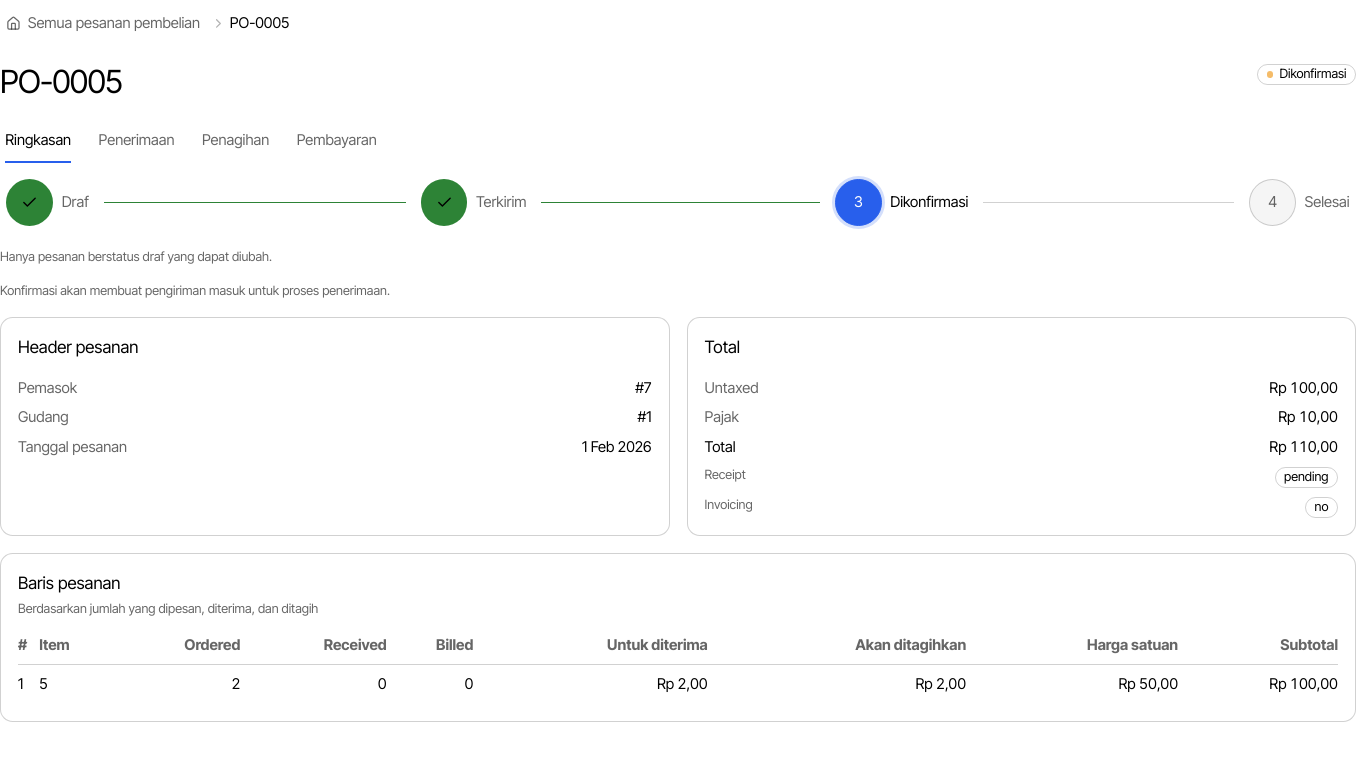
Scenario: PurchaseOrderDetail extra › lists billable lines and opens the supplier-bill dialog
This screenshot has width=1366, height=768.
Click the tab "Penagihan": (236, 141) [201, 117, 270, 164]
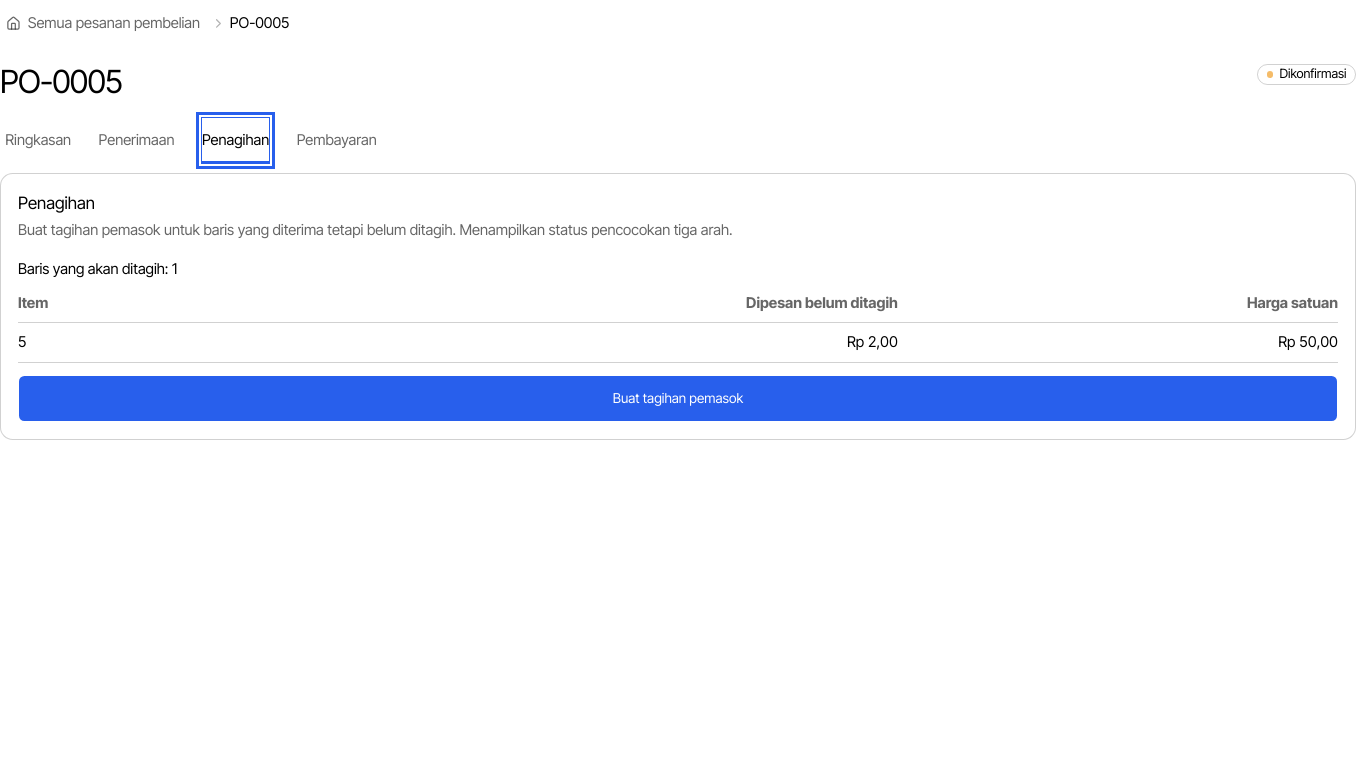
expect the text "Baris yang akan ditagih: 1" is shown: met, box [18, 260, 177, 278]
Click the button "Buat tagihan pemasok": (678, 399) [18, 375, 1338, 422]
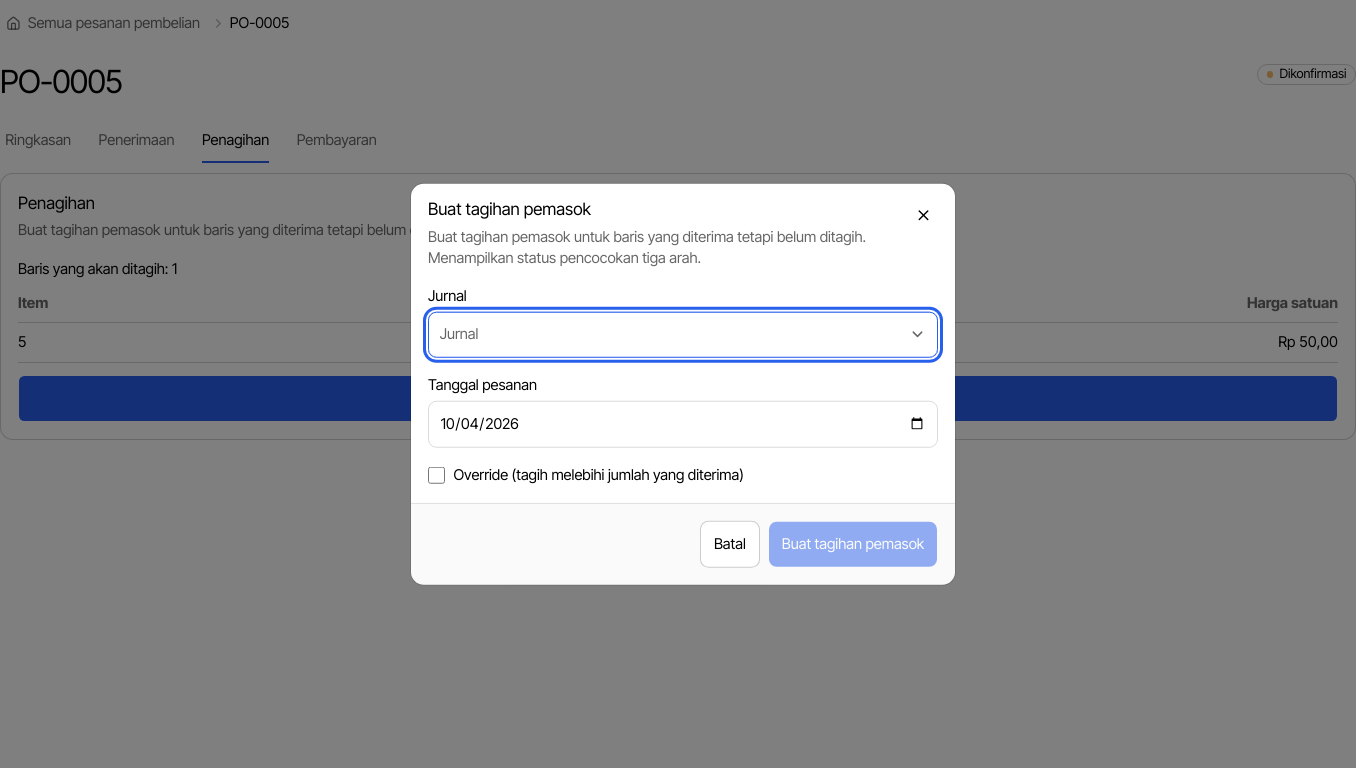
expect the dialog is shown: met, box [411, 184, 955, 584]
